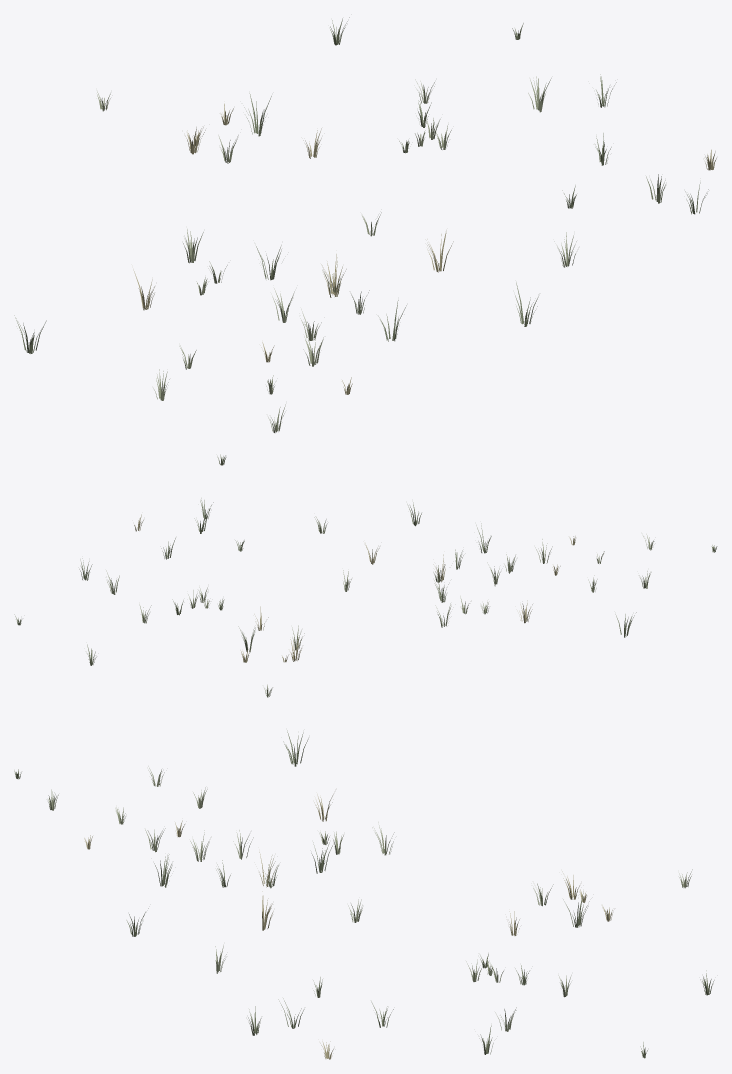
The model's file is AE_Grass_2_0.fbx.
3 renders of one model, top to bottom at view 1: azimuth 30°, elevation 25°; view 2: azimuth 150°, elevation 25°; view 3: azimuth 270°, elevation 25°, orthographic. The views are drawn at different scales.
Parts seen in each view (by area): view 1: AE_Grass_2_0_LOD0; view 2: AE_Grass_2_0_LOD0; view 3: AE_Grass_2_0_LOD0.
Boxes of the visible parts, box(x1,y1,x2,y2) form: AE_Grass_2_0_LOD0: box(14, 17, 716, 465); AE_Grass_2_0_LOD0: box(14, 498, 717, 697); AE_Grass_2_0_LOD0: box(14, 730, 714, 1059).
Size of what is drawn, in the model's own units: 1828 by 111 by 1804.
